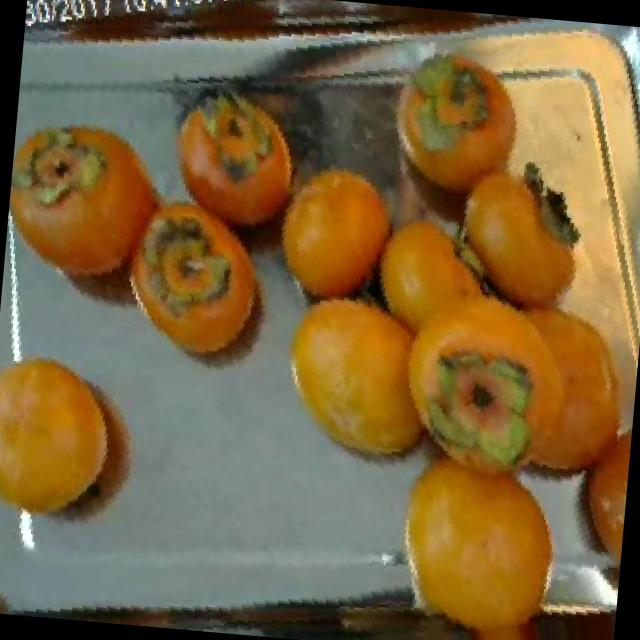Fruit: (0, 334, 159, 558), (148, 55, 320, 254), (258, 141, 413, 327), (515, 573, 618, 640)
